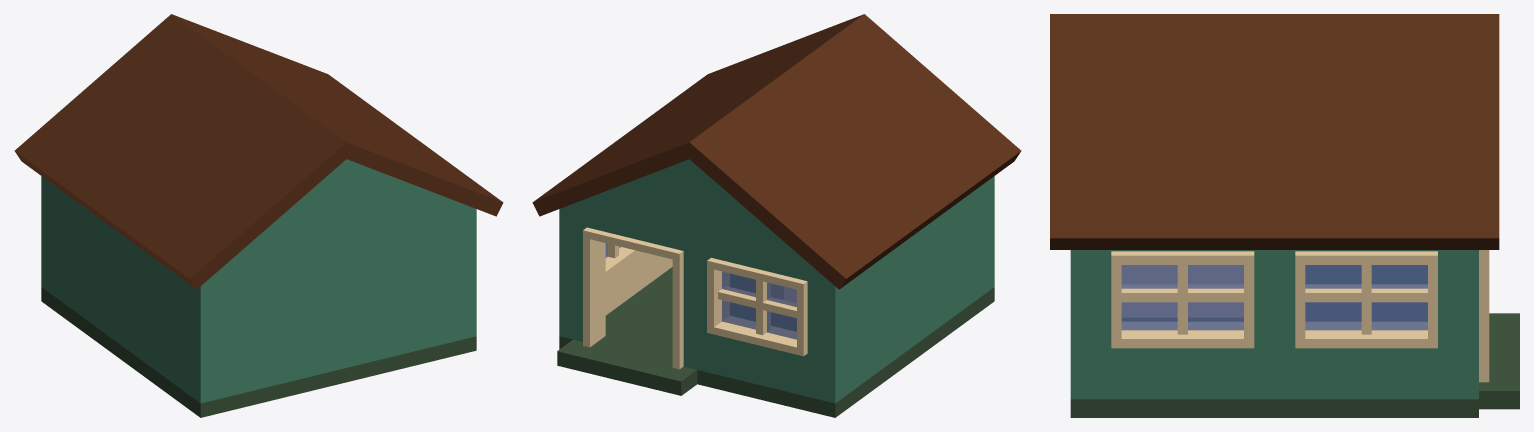
The model's file is house-jakob.dae.
The picture shows the model from 3 angles, left to right: view 1: azimuth 30°, elevation 25°; view 2: azimuth 150°, elevation 25°; view 3: azimuth 270°, elevation 25°; orthographic projection. The views are drawn at different scales.
Visible parts, largest first — view 1: SketchUp (×3); view 2: SketchUp (×11); view 3: SketchUp (×16).
Part boxes in pixels (<box>): SketchUp (×3): <box>14,14,503,417</box>; SketchUp (×11): <box>532,14,1021,417</box>; SketchUp (×16): <box>1050,14,1519,417</box>.
Bounding box in the file's own units: 895 × 906 × 676.
